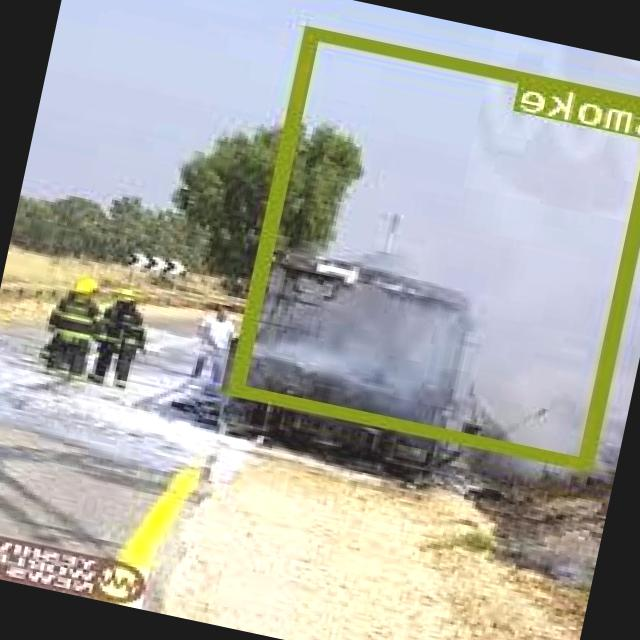smoke: (231, 26, 640, 468)
